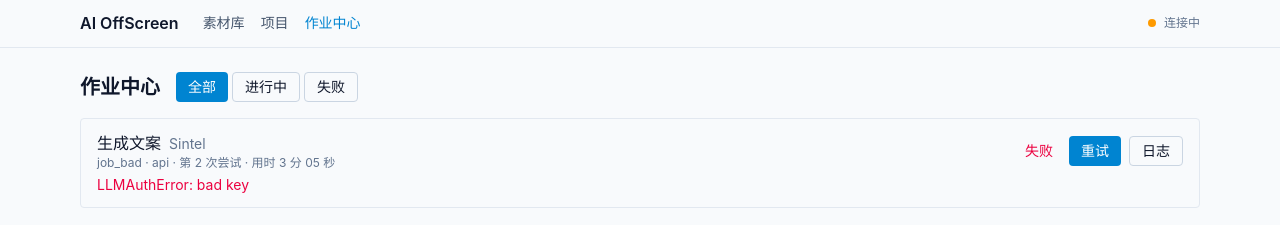
Test: job center › retries a failed job
The width and height of the screenshot is (1280, 225).
Click the button "重试" at [1095, 151], box [1069,136,1121,166]
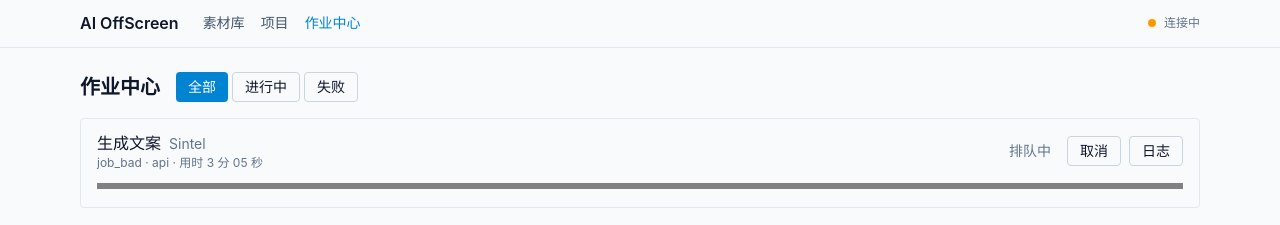
Check: the list item shows "排队中", box [1009,142,1051,159]
